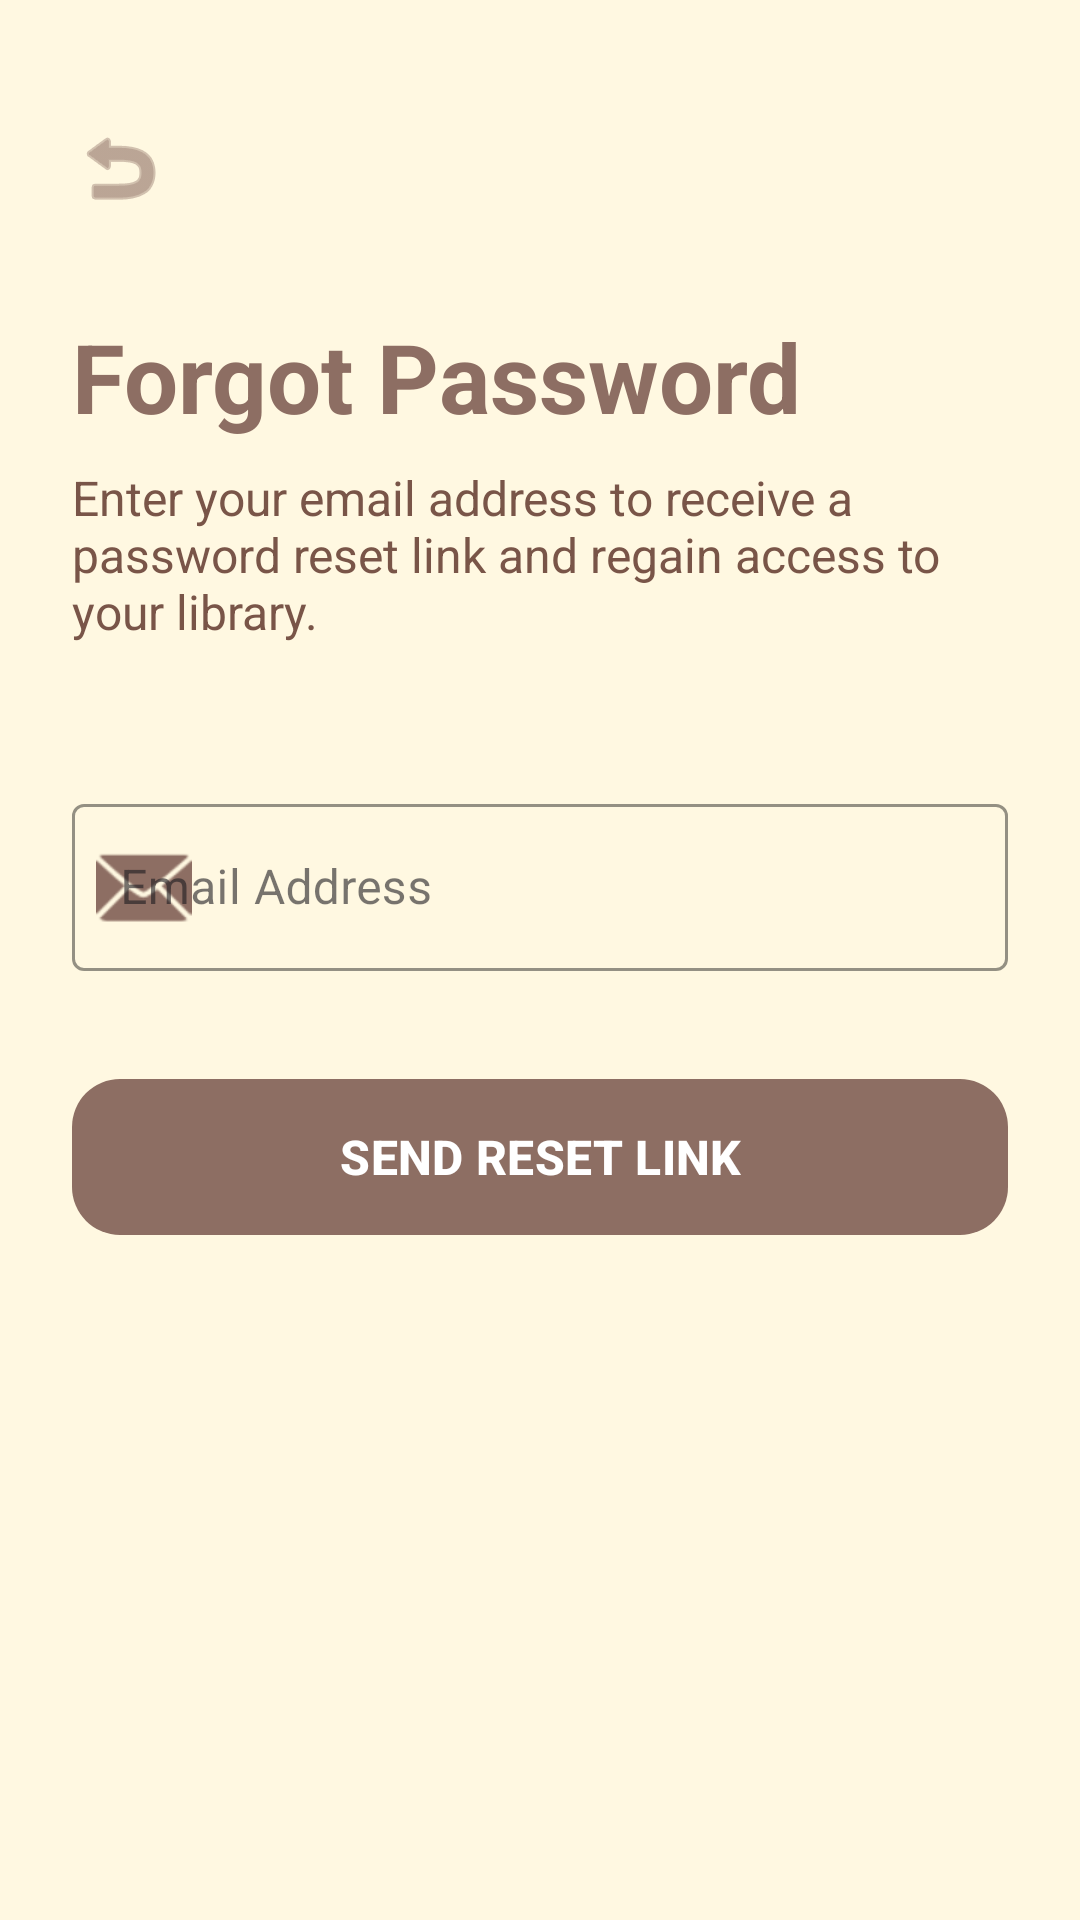

Icon click points for this 1080*1920 phone screenshot, format [x,y]:
revert: [121,169]
